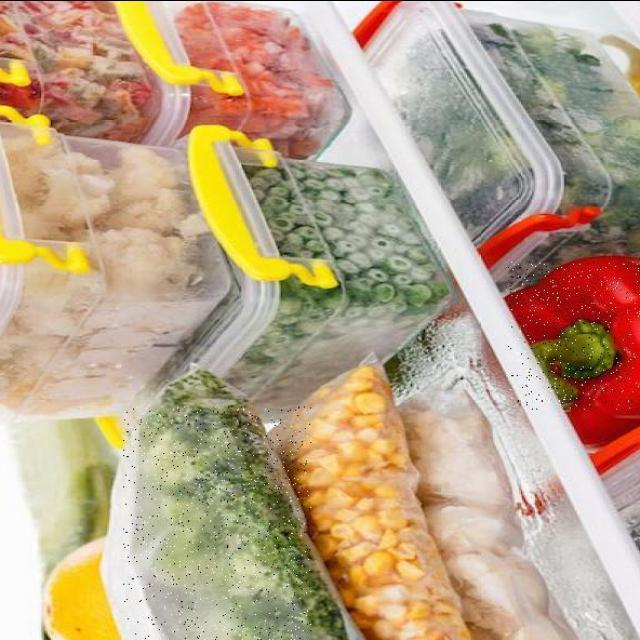Brocoli: (123, 406, 312, 640)
red bell pepper: (508, 261, 640, 409)
